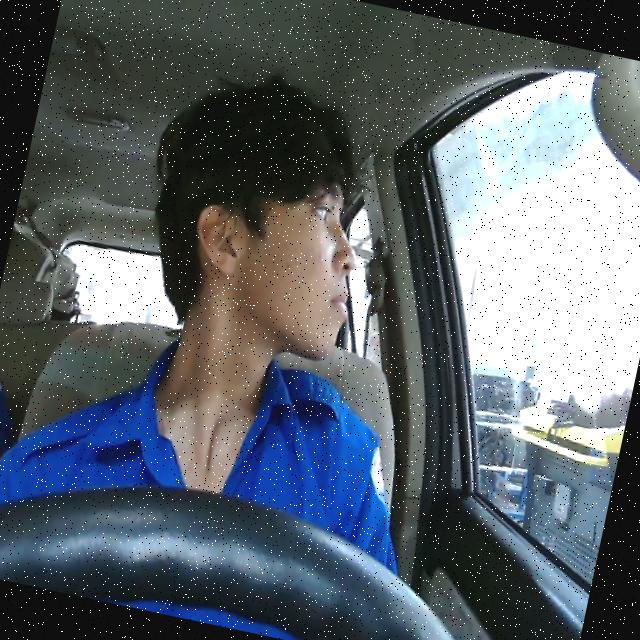seeing_right: (172, 144, 377, 366)
